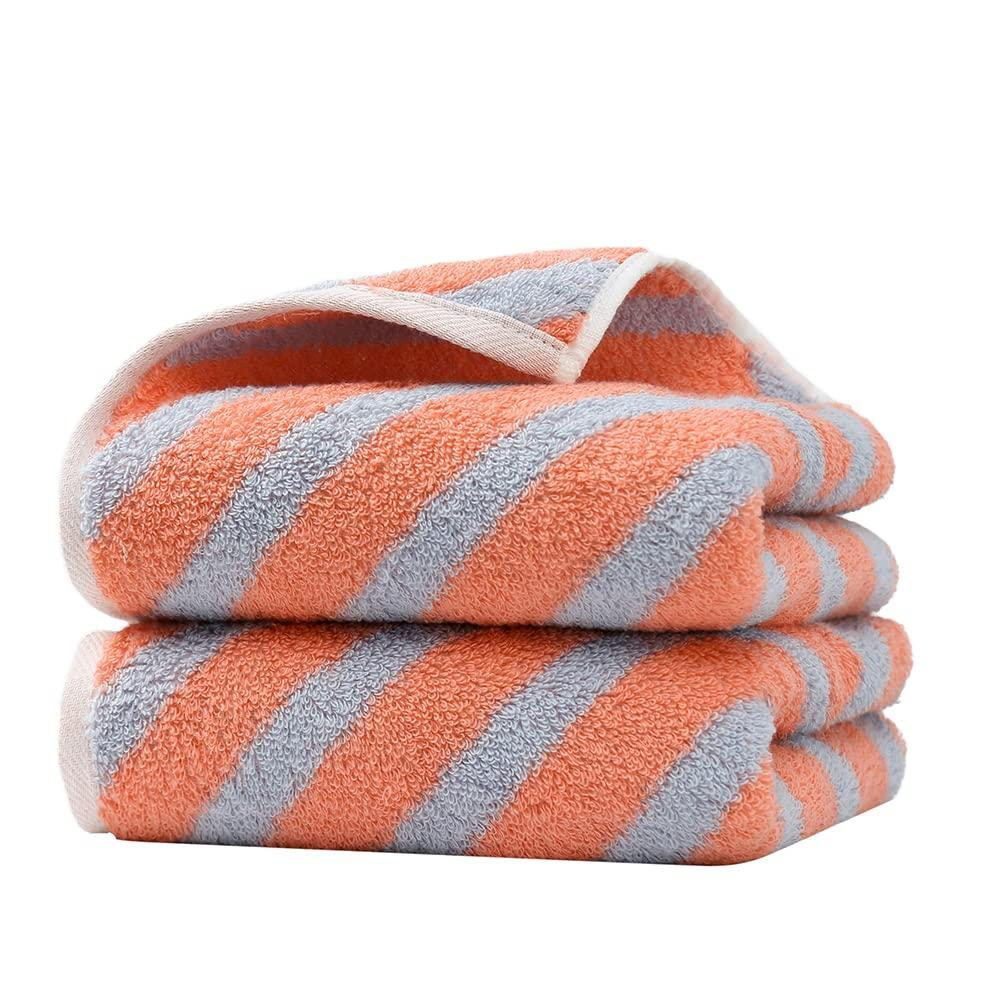towel: (43, 170, 893, 900)
